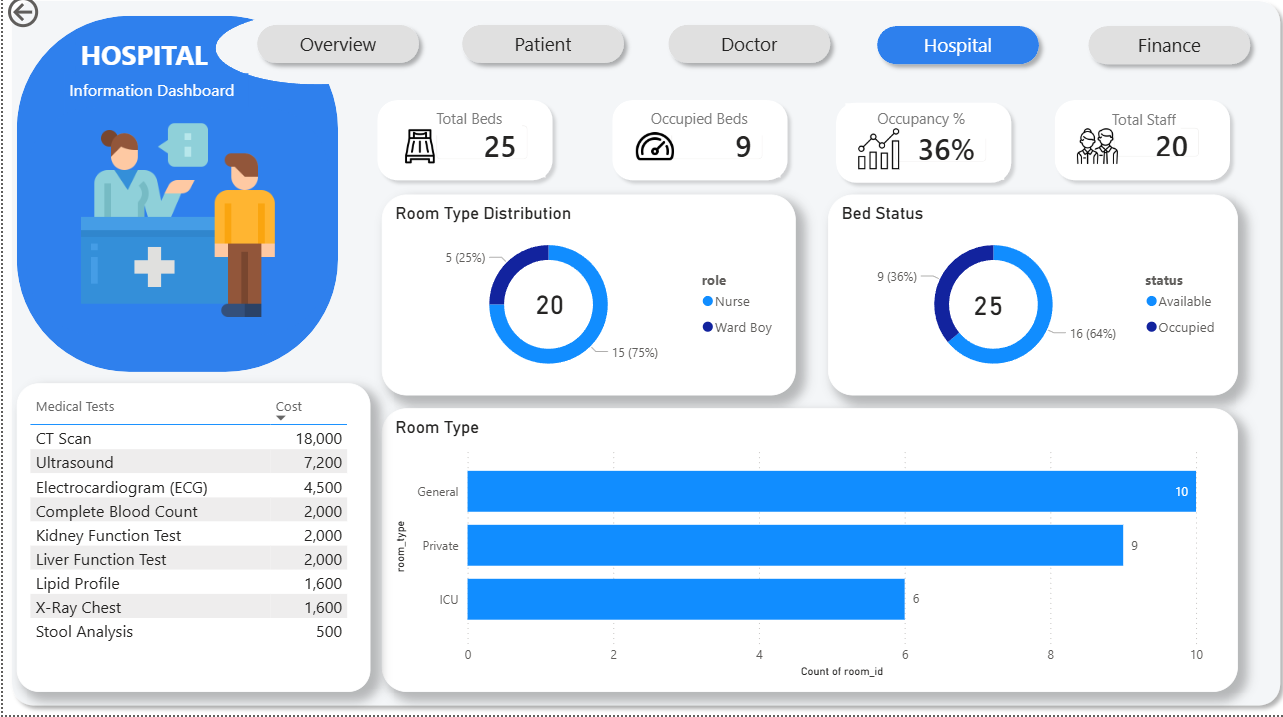

Layout of this report page (visuals, bound fields, positions):
{"tool":"powerbi","page":{"name":"Hospital","canvas":[1280,720],"ordinal":4},"visuals":[{"type":"shape","box":[0,0,1280,719],"z":0},{"type":"shape","title":"kpi_bg_temp","box":[364.5,99.5,190.3,95.8],"z":0,"group":"g4"},{"type":"shape","title":"kpi_bg_temp","box":[598.3,99.5,190.3,95.8],"z":0,"group":"g3"},{"type":"shape","title":"kpi_bg_temp","box":[1038.7,99.5,190.3,95.8],"z":0,"group":"g2"},{"type":"shape","title":"kpi_bg_temp","box":[821,102,190.3,95.8],"z":0,"group":"g1"},{"type":"shape","box":[447.8,23.6,179.1,56],"z":1000},{"type":"cardVisual","fields":{"Data":["Measure Calculation.Total Beds"]},"box":[413.9,115.4,125.7,68.4],"z":1000,"group":"g4"},{"type":"cardVisual","fields":{"Data":["Measure Calculation.Occupied_Beds"]},"box":[647.7,115.4,125.7,68.4],"z":1000,"group":"g3"},{"type":"cardVisual","fields":{"Data":["Measure Calculation.Occupancy %"]},"box":[870.4,117.9,125.7,68.4],"z":1000,"group":"g1"},{"type":"cardVisual","fields":{"Data":["Measure Calculation.Staff"]},"box":[1088.8,118.8,119.4,63.4],"z":1000,"group":"g2"},{"type":"shape","box":[653.1,23.6,179.1,56],"z":2000},{"type":"textbox","box":[838.4,110.7,150.5,34.8],"z":2000,"group":"g1"},{"type":"textbox","box":[411.2,111.3,104.5,32.3],"z":2000,"group":"g4"},{"type":"textbox","box":[615.3,111.3,154.3,32.3],"z":2000,"group":"g3"},{"type":"textbox","box":[1098.9,112.1,73.9,31.1],"z":2000,"group":"g2"},{"type":"shape","box":[860.8,24.9,179.1,56],"z":3000},{"type":"image","box":[377,133.6,76.2,40.9],"z":3000,"group":"g4"},{"type":"image","box":[610.8,133.6,76.2,40.9],"z":3000,"group":"g3"},{"type":"image","box":[1051.2,133.6,76.2,40.9],"z":3000,"group":"g2"},{"type":"image","box":[833.5,136.1,76.2,40.9],"z":3000,"group":"g1"},{"type":"shape","box":[1071,24.9,179.1,56],"z":4000},{"type":"shape","title":"Blue_base","box":[13.7,23.6,319.7,354.5],"z":5000},{"type":"shape","box":[211.5,19.9,202.8,72.1],"z":6000},{"type":"shape","box":[243.8,23.6,179.1,56],"z":7000},{"type":"textbox","box":[72.1,38.6,139.3,53.5],"z":8000},{"type":"textbox","box":[61,80.9,182.9,41.1],"z":9000},{"type":"shape","box":[23.6,114.4,301,226.4],"z":10000},{"type":"image","box":[23.6,120.7,301,212.7],"z":11000},{"type":"group","id":"g1","title":"kpi_patients","box":[821,102,190.3,95.8],"z":12000},{"type":"group","id":"g2","title":"kpi_patients","box":[1038.7,99.5,190.3,95.8],"z":13000},{"type":"group","id":"g3","title":"kpi_patients","box":[598.3,99.5,190.3,95.8],"z":14000},{"type":"group","id":"g4","title":"kpi_patients","box":[364.5,99.5,190.3,95.8],"z":15000},{"type":"donutChart","title":"Bed Status","fields":{"Y":["CountNonNull(Beds.bed_id)"],"Category":["Beds.status"]},"box":[821,201.5,408,200.3],"z":16000},{"type":"card","fields":{"Values":["Count(Beds.bed_id)"]},"box":[950.4,288.6,61,44.8],"z":17000},{"type":"donutChart","title":"Room Type Distribution","fields":{"Category":["Staff.role"],"Y":["CountNonNull(Staff.staff_id)"]},"box":[376.9,201.5,411.8,200.3],"z":18000},{"type":"card","fields":{"Values":["Count(Staff.staff_id)"]},"box":[516.2,283.6,56,53.5],"z":19000},{"type":"clusteredBarChart","title":"Room Type","fields":{"Category":["Rooms.room_type"],"Y":["CountNonNull(Rooms.room_id)"]},"box":[376.9,414.2,852.1,282.4],"z":20000},{"type":"tableEx","fields":{"Values":["Patient Tests.Medical Tests.test_name","Sum(Patient Tests.Medical Tests.cost)"]},"box":[13.7,389.4,352,307.3],"z":21000},{"type":"actionButton","box":[0,0,100,40],"z":22000}]}

Visuals, with their boxes in screenshot pixels (x1, y1, x2, y2), scaled from the page's 1280x720 canvas onto the 1283x717 screenshot:
shape: crop(0, 0, 1282, 716)
"kpi_bg_temp" shape: crop(365, 99, 556, 194)
"kpi_bg_temp" shape: crop(600, 99, 790, 194)
"kpi_bg_temp" shape: crop(1041, 99, 1232, 194)
"kpi_bg_temp" shape: crop(823, 102, 1014, 197)
shape: crop(449, 24, 628, 79)
cardVisual - Measure Calculation.Total Beds: crop(415, 115, 541, 183)
cardVisual - Measure Calculation.Occupied_Beds: crop(649, 115, 775, 183)
cardVisual - Measure Calculation.Occupancy %: crop(872, 117, 998, 186)
cardVisual - Measure Calculation.Staff: crop(1091, 118, 1211, 181)
shape: crop(655, 24, 834, 79)
textbox: crop(840, 110, 991, 145)
textbox: crop(412, 111, 517, 143)
textbox: crop(617, 111, 771, 143)
textbox: crop(1101, 112, 1176, 143)
shape: crop(863, 25, 1042, 81)
image: crop(378, 133, 454, 174)
image: crop(612, 133, 689, 174)
image: crop(1054, 133, 1130, 174)
image: crop(835, 136, 912, 176)
shape: crop(1074, 25, 1253, 81)
"Blue_base" shape: crop(14, 24, 334, 377)
shape: crop(212, 20, 415, 92)
shape: crop(244, 24, 424, 79)
textbox: crop(72, 38, 212, 92)
textbox: crop(61, 81, 244, 121)
shape: crop(24, 114, 325, 339)
image: crop(24, 120, 325, 332)
"kpi_patients" group: crop(823, 102, 1014, 197)
"kpi_patients" group: crop(1041, 99, 1232, 194)
"kpi_patients" group: crop(600, 99, 790, 194)
"kpi_patients" group: crop(365, 99, 556, 194)
"Bed Status" donutChart: crop(823, 201, 1232, 400)
card - Count(Beds.bed_id): crop(953, 287, 1014, 332)
"Room Type Distribution" donutChart: crop(378, 201, 791, 400)
card - Count(Staff.staff_id): crop(517, 282, 574, 336)
"Room Type" clusteredBarChart: crop(378, 412, 1232, 694)
tableEx - Patient Tests.Medical Tests.test_name x Sum(Patient Tests.Medical Tests.cost): crop(14, 388, 367, 694)
actionButton: crop(0, 0, 100, 40)
